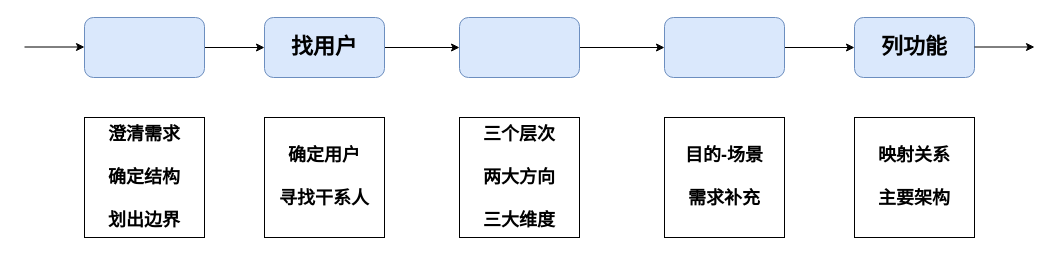
Some shapes in this 1060 by 255 pixel diagram are drawn without their labels. The box of each missing label's shape, as (x1, y1, x2, y2) in pixels:
定系统: (84, 16, 204, 78)
画场景: (664, 16, 784, 78)
问目的: (458, 16, 580, 78)
